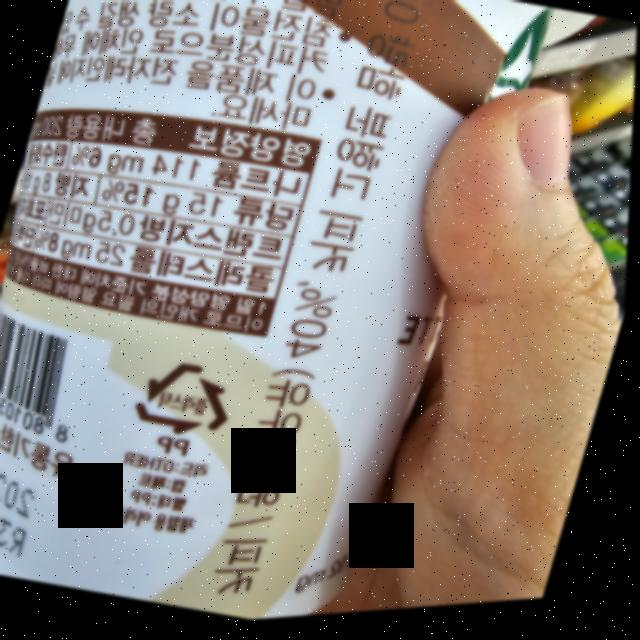Plastic: (131, 350, 249, 452)
